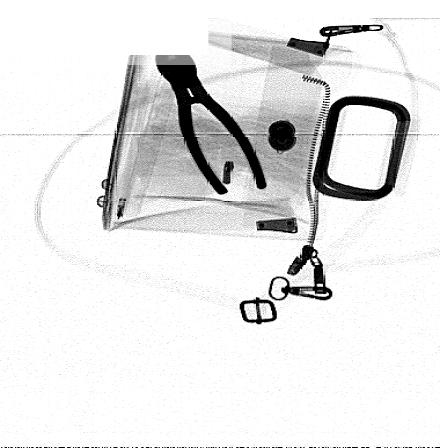Pliers: (154, 41, 271, 197)
